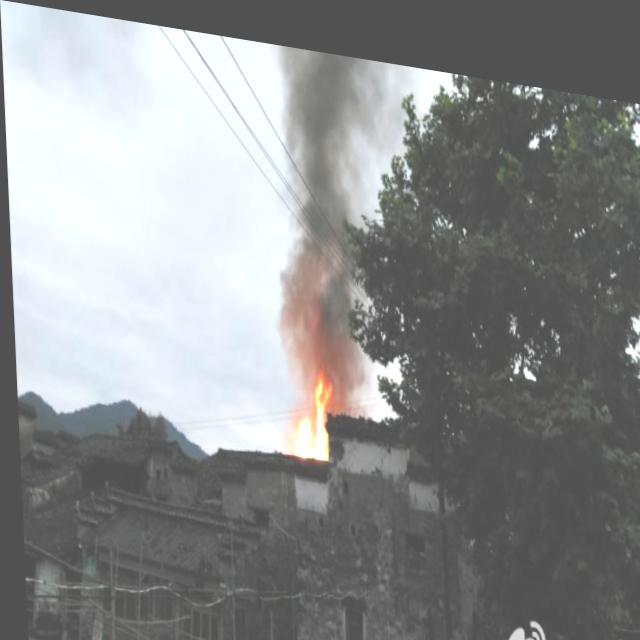Fire: (286, 358, 329, 458)
